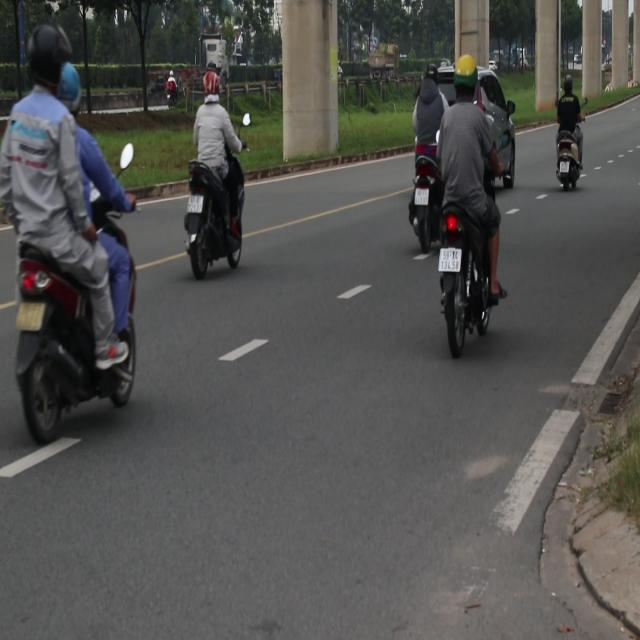car: (417, 48, 526, 191)
motorbike: (8, 182, 158, 452), (442, 209, 506, 363), (184, 158, 244, 280), (409, 158, 447, 256), (557, 138, 583, 191)
truck: (181, 26, 238, 90)
